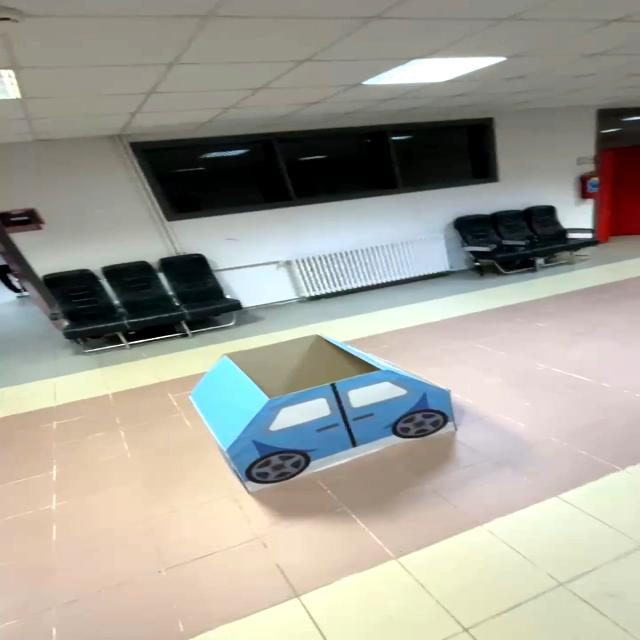blue_car: (178, 324, 472, 504)
